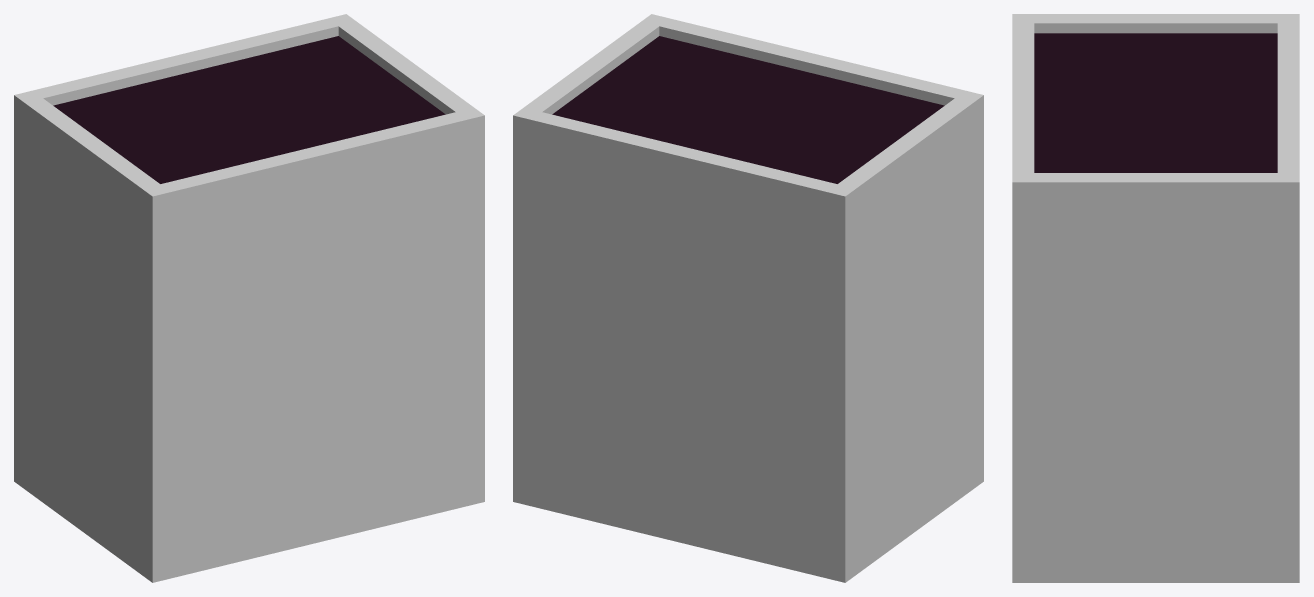
The model's file is BlockSymbol.fbx.
3 views of the same model, side by side, from view 1: azimuth 30°, elevation 25°; view 2: azimuth 150°, elevation 25°; view 3: azimuth 270°, elevation 25° (orthographic). The views are drawn at different scales.
Visible parts, largest first — view 1: Block Symbol; view 2: Block Symbol; view 3: Block Symbol.
Boxes of the visible parts, x1,y1,x2,y2 form: Block Symbol: [14, 14, 484, 582]; Block Symbol: [513, 14, 983, 582]; Block Symbol: [1012, 14, 1299, 582].
Bounding box in the file's own units: 18 × 20 × 13.
